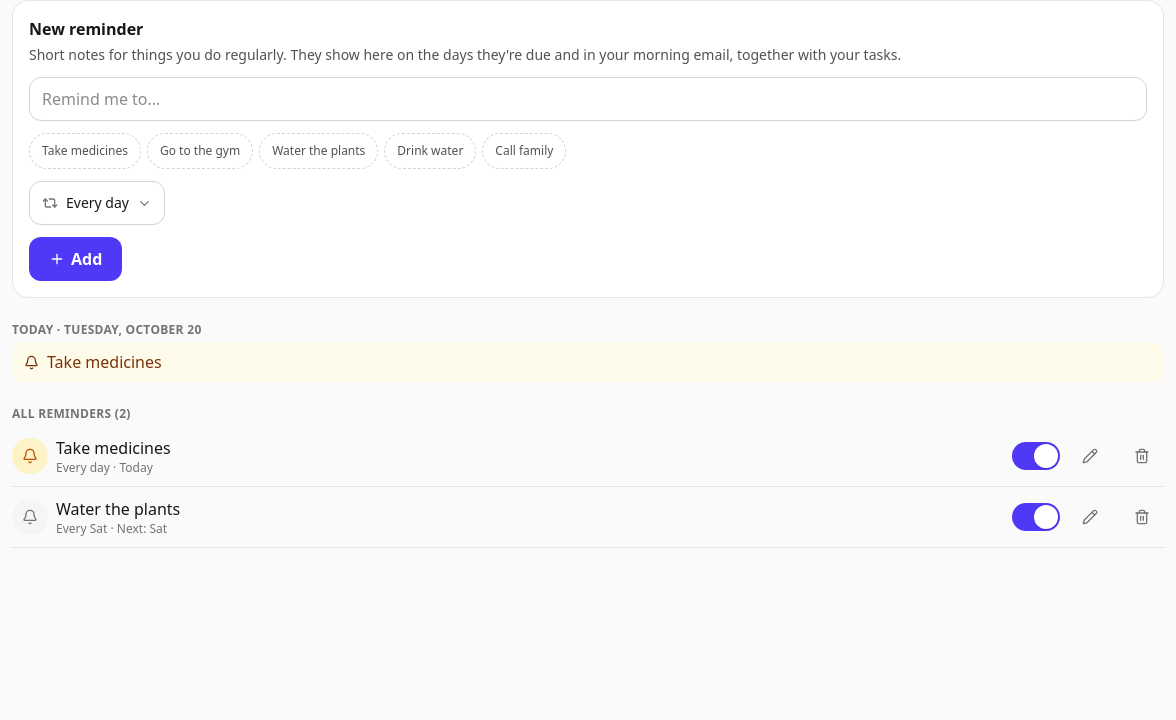
Scenario: RemindersPanel › pauses a reminder so it is no longer due today
Click the switch named "Pause: Take medicines" at (1036, 456), box [1012,442,1060,470]
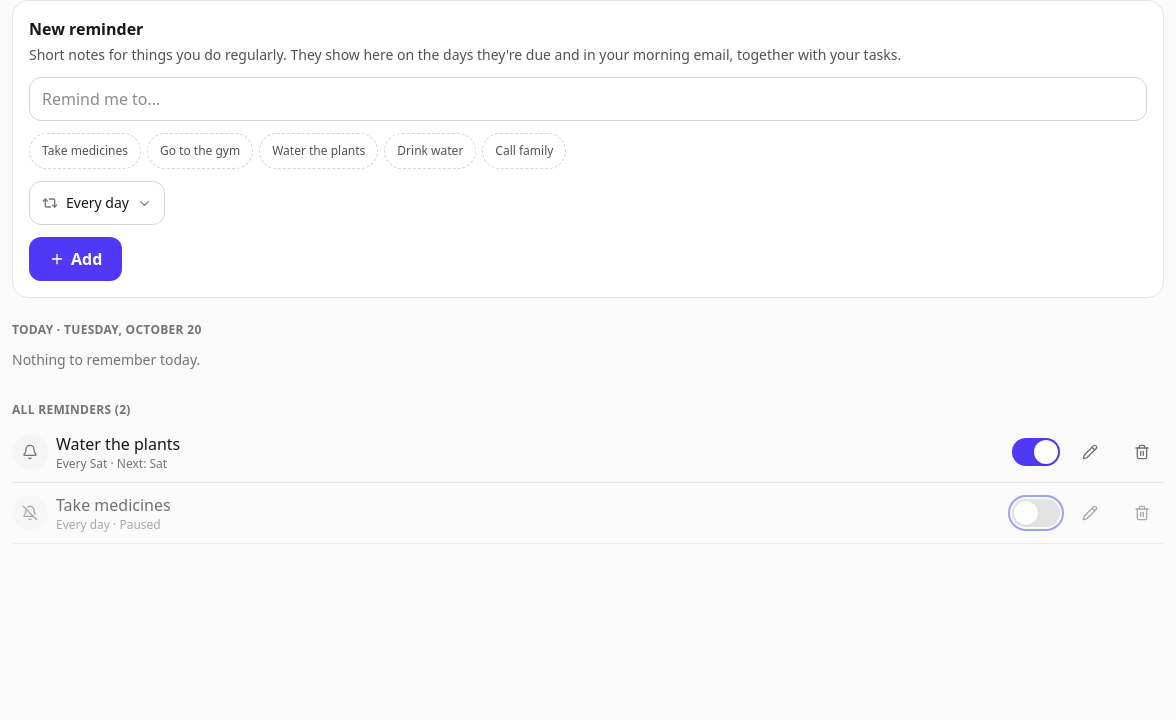
Check: the switch named "Resume: Take medicines" is shown, box [1012,499,1060,527]
